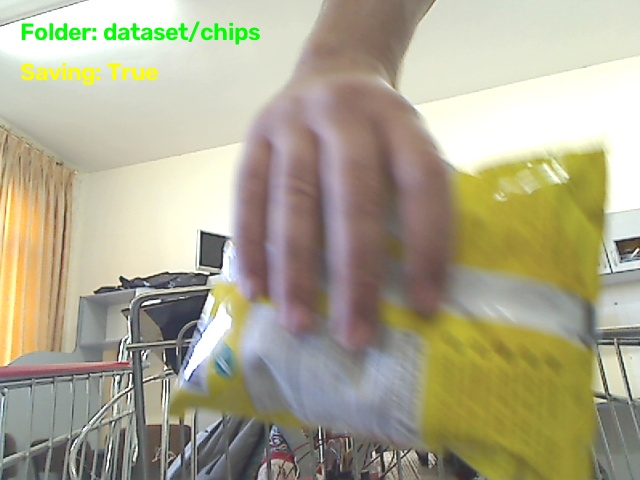chips: (172, 149, 605, 479)
